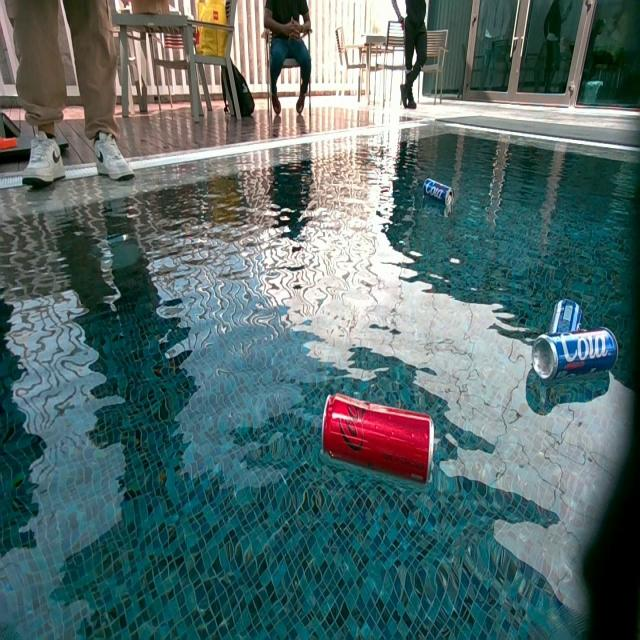Cans: (318, 393, 434, 488), (533, 330, 620, 384), (549, 300, 585, 330), (423, 178, 453, 205)
